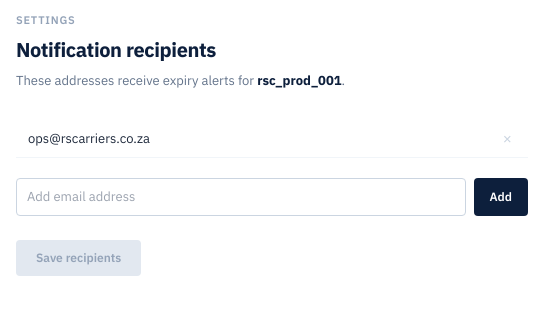
Test: NotificationRecipientsPage › rejects invalid email format
The image size is (546, 313).
Type "not-an-email" into the field with placeholder "Add email address" at (241, 197), box x1=16 y1=178 x2=466 y2=216
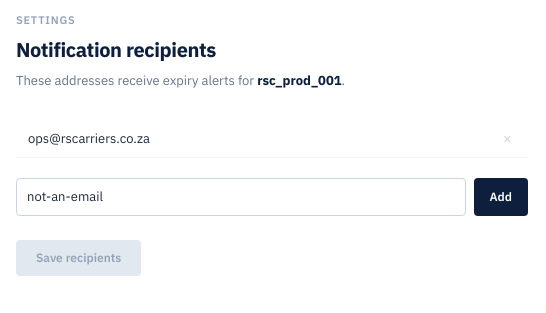
Click the button "Add" at (501, 197), box x1=474 y1=178 x2=528 y2=216
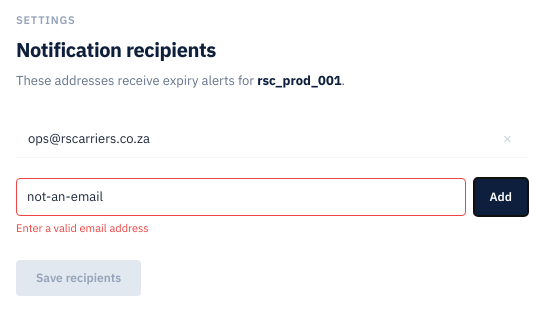
Expected: the text "Enter a valid email address" is shown, x1=16 y1=221 x2=149 y2=235
